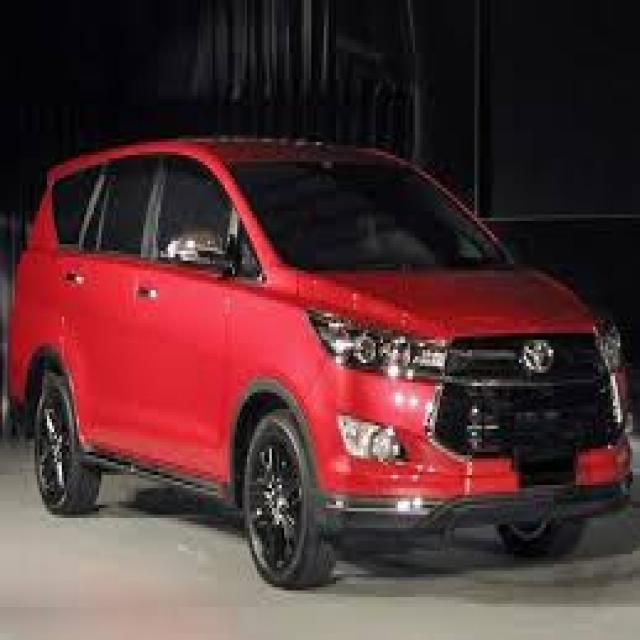light_vehicle: (7, 139, 634, 590)
